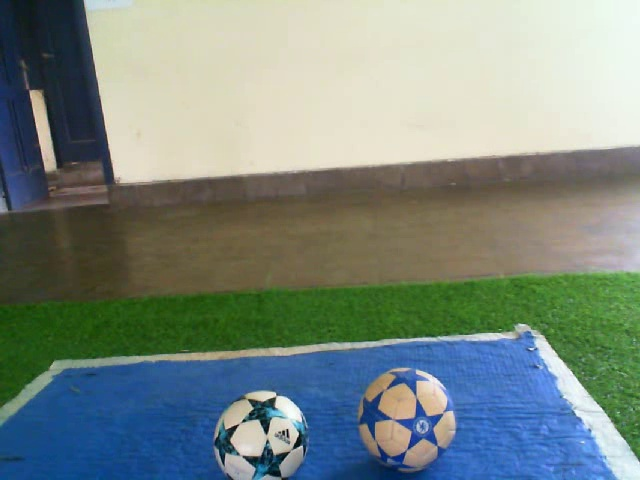ball: (355, 365, 459, 476), (210, 388, 312, 480)
